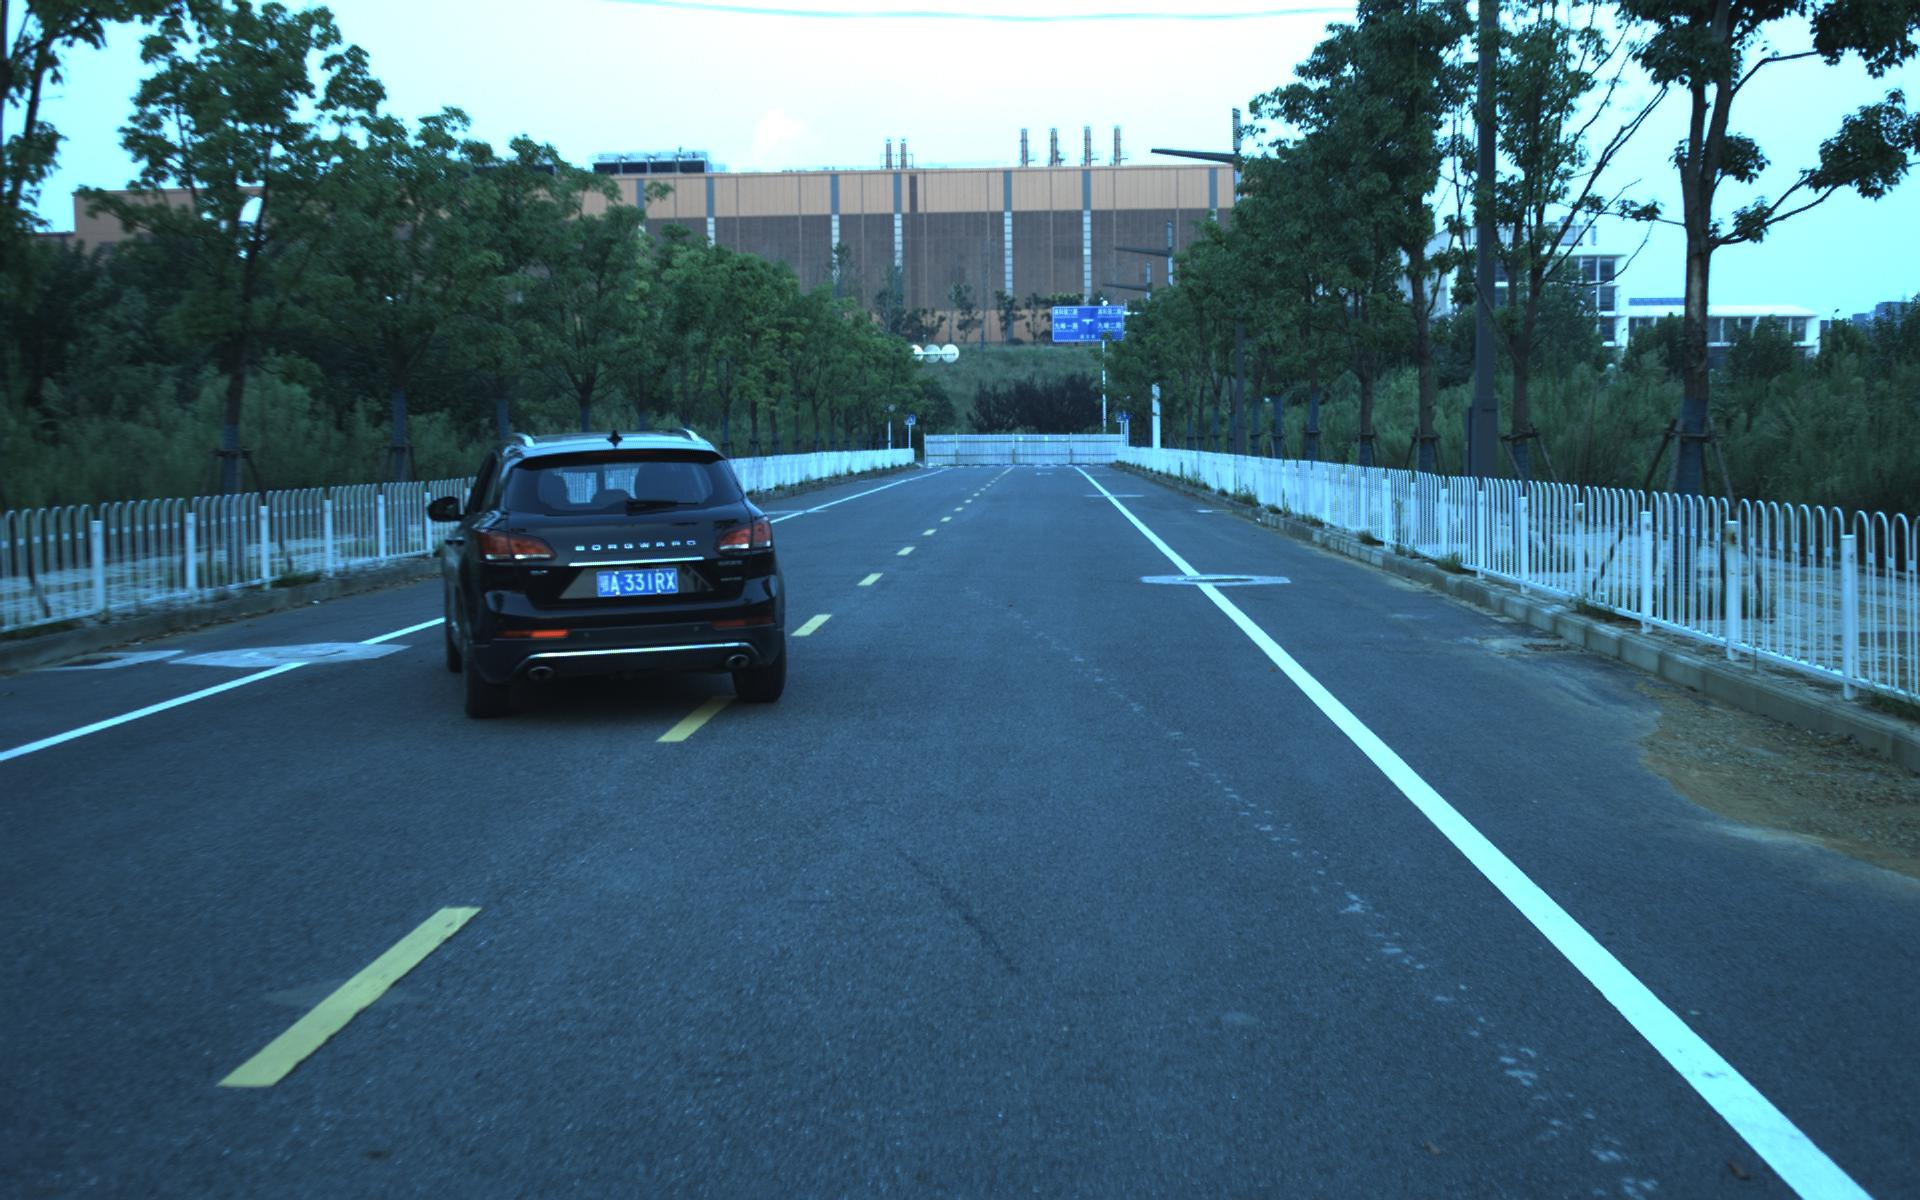Car: (433, 424, 800, 724)
